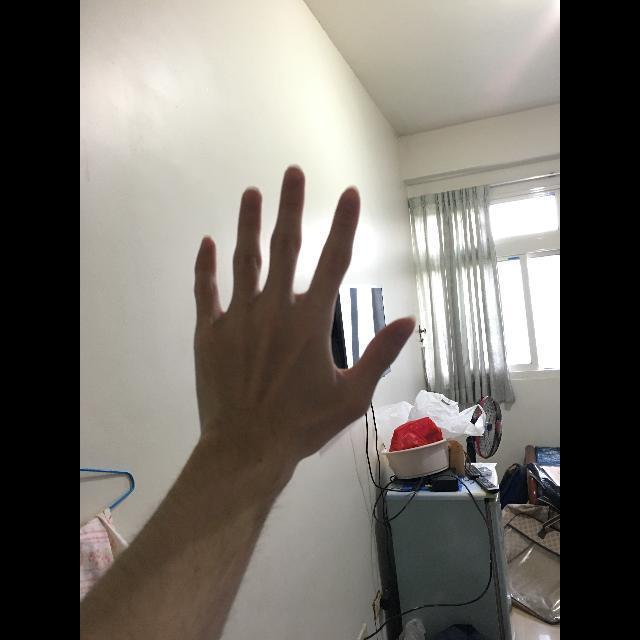bare_hand: (187, 161, 416, 457)
